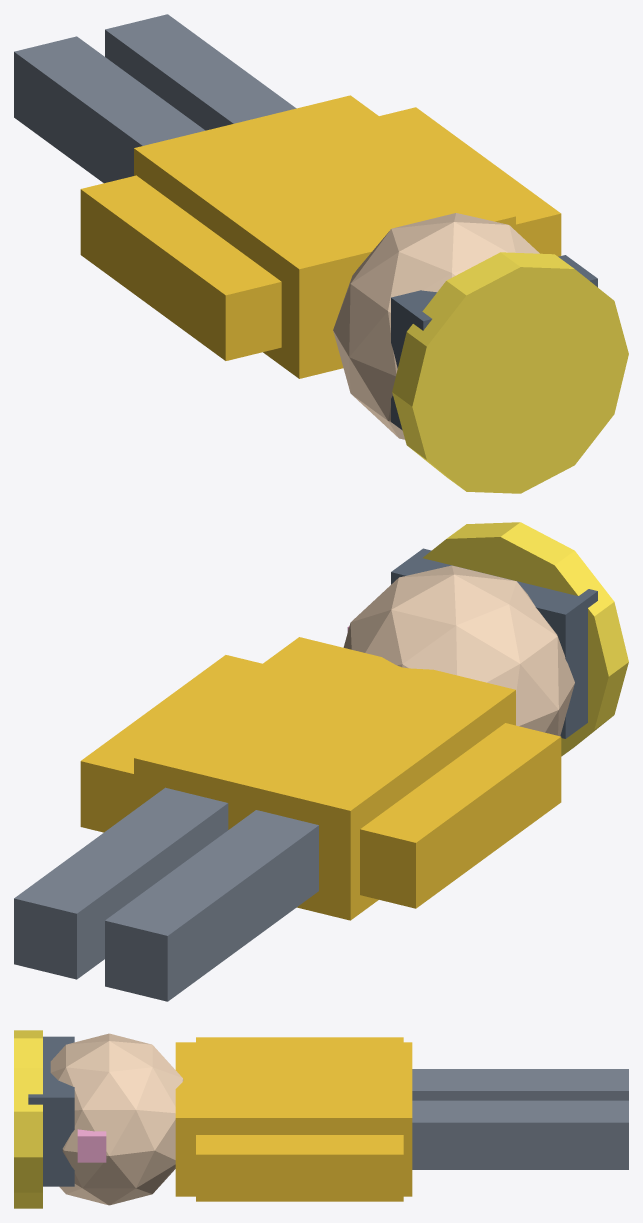
Rendered from safety_variant_1.glb.
The picture shows the model from 3 angles, top to bottom: view 1: azimuth 30°, elevation 25°; view 2: azimuth 150°, elevation 25°; view 3: azimuth 270°, elevation 25°; orthographic projection. The views are drawn at different scales.
Parts seen in each view (by area): view 1: torso_2, helmet_7, arm_l_3, leg_l_0, head_5, leg_r_1, arm_r_4, hair_6; view 2: torso_2, leg_l_0, arm_l_3, head_5, leg_r_1, helmet_7, arm_r_4, hair_6; view 3: torso_2, head_5, leg_r_1, arm_r_4, leg_l_0, helmet_7, hair_6, arm_l_3, earring_or_badge_8.
Boxes of the visible parts, x1,y1,x2,y2 form: torso_2: (134,95,515,378); helmet_7: (392,252,628,493); arm_l_3: (80,175,281,360); leg_l_0: (14,36,205,183); head_5: (333,213,539,439); leg_r_1: (105,14,296,130); arm_r_4: (379,107,561,256); hair_6: (391,255,597,430); torso_2: (134,637,515,920); leg_l_0: (105,810,318,1001); arm_l_3: (360,723,561,908); head_5: (343,565,574,736); leg_r_1: (14,787,228,979); helmet_7: (423,522,628,756); arm_r_4: (80,655,262,832); hair_6: (391,548,597,738); torso_2: (175,1042,412,1196); head_5: (50,1033,183,1205); leg_r_1: (412,1100,628,1169); arm_r_4: (196,1135,403,1201); leg_l_0: (412,1069,628,1100); helmet_7: (14,1030,42,1208); hair_6: (28,1036,74,1186); arm_l_3: (196,1037,403,1042); earring_or_badge_8: (77,1129,106,1162).
Bounding box in the file's own units: 0.96 × 0.62 × 2.13.
